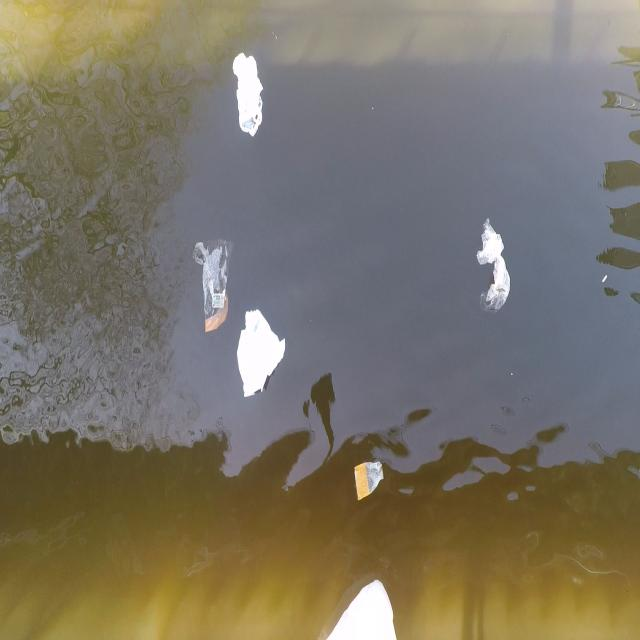Sac plastique: (237, 302, 290, 403), (326, 572, 403, 640), (190, 230, 233, 335), (473, 210, 513, 318), (229, 44, 267, 142), (354, 455, 385, 511)
